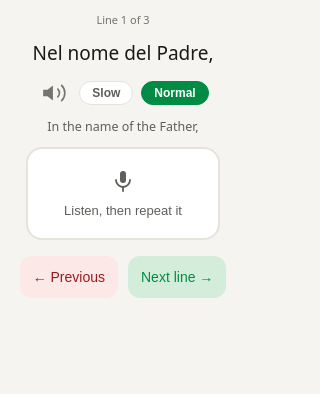
Test: DevotionsTab Shadow mode — the mic can always be used again › listens again right after a result on the same line, before onend
Click the button with aria-label "recording" at (123, 193), box [26,146,220,240]
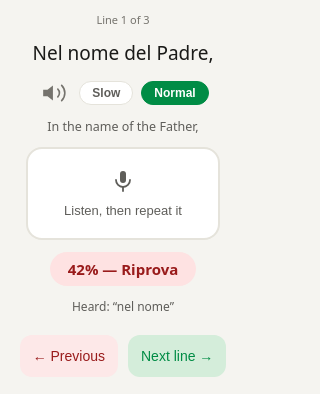
Click the button with aria-label "recording" at (123, 193), box [26,146,220,240]
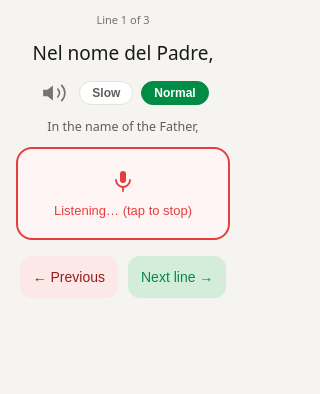
Now the button with aria-label "recording" shows "Listening", box [16,146,230,240]
